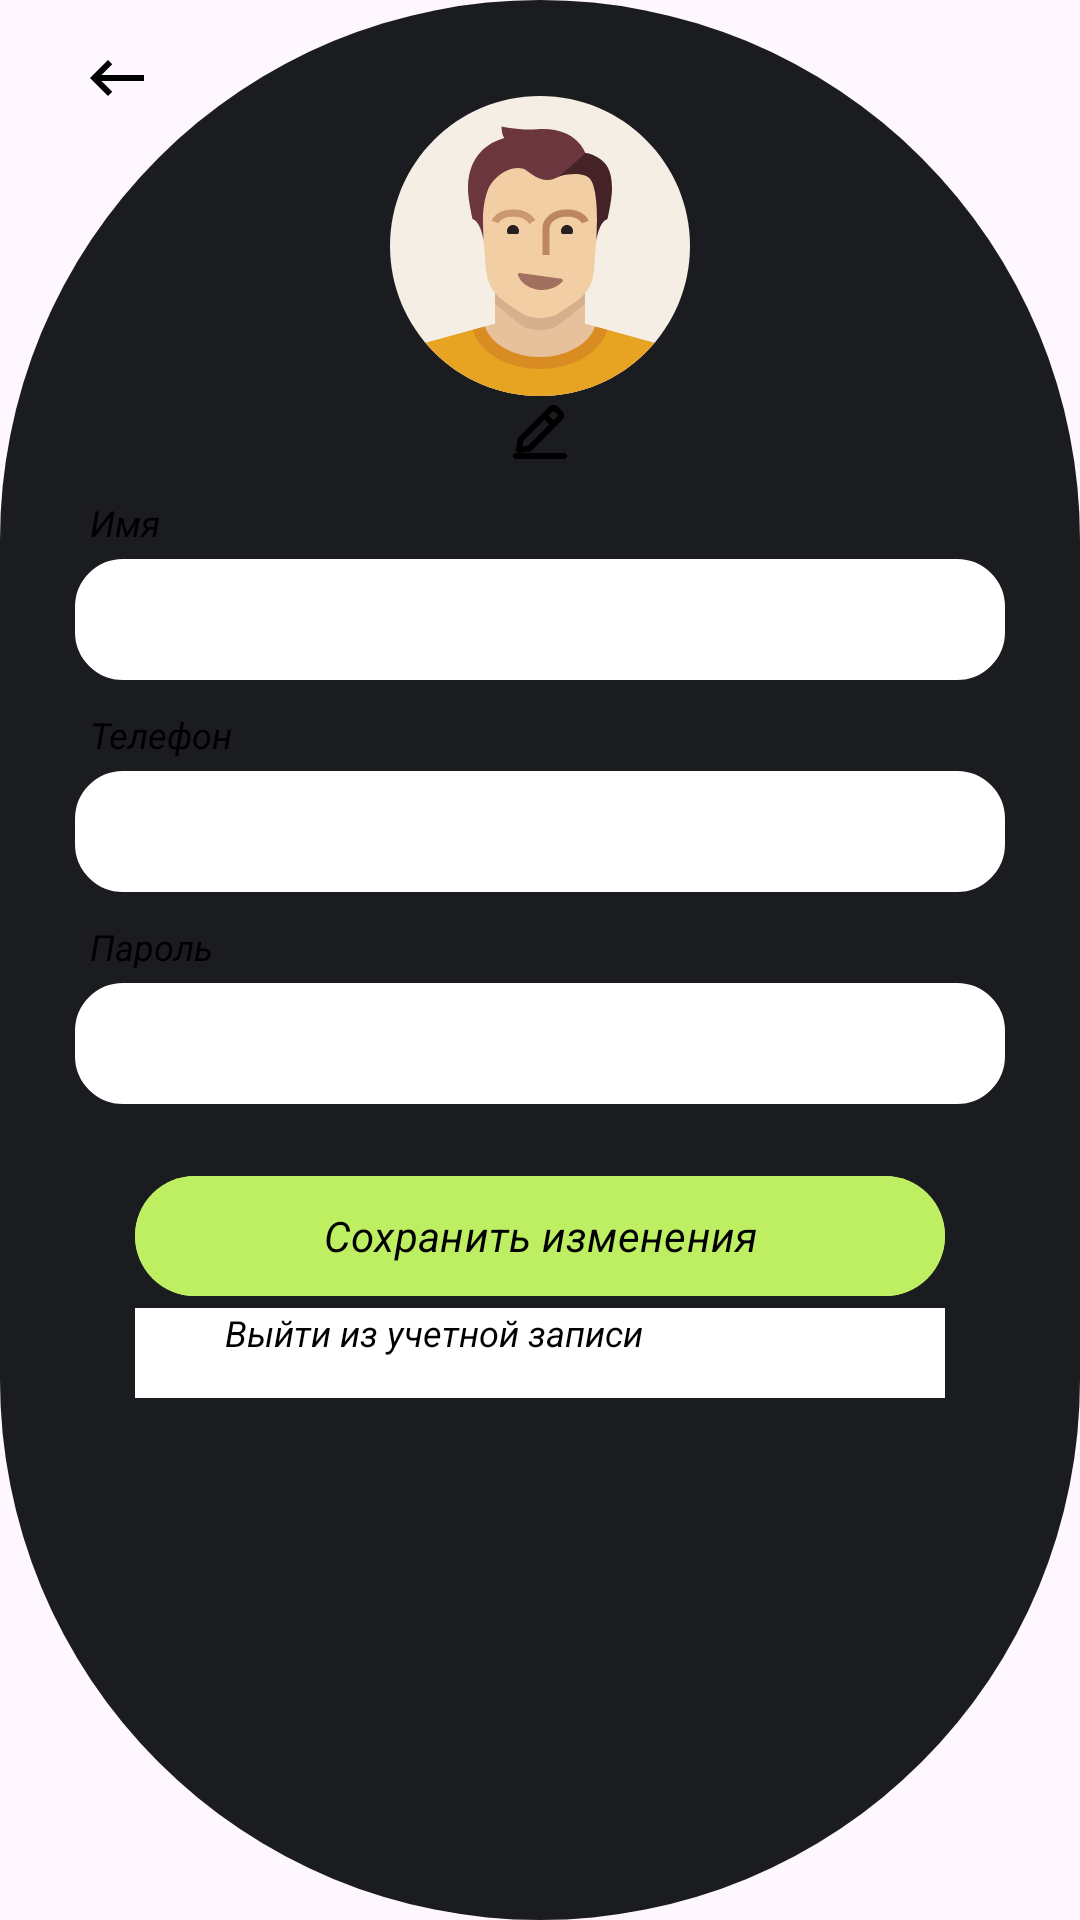

Icons on this 1080*1920 Android screen, each with its box as (x1, y1, x2, y2):
back: (90, 60, 144, 96)
male: (390, 96, 690, 396)
pencil: (513, 405, 567, 459)
